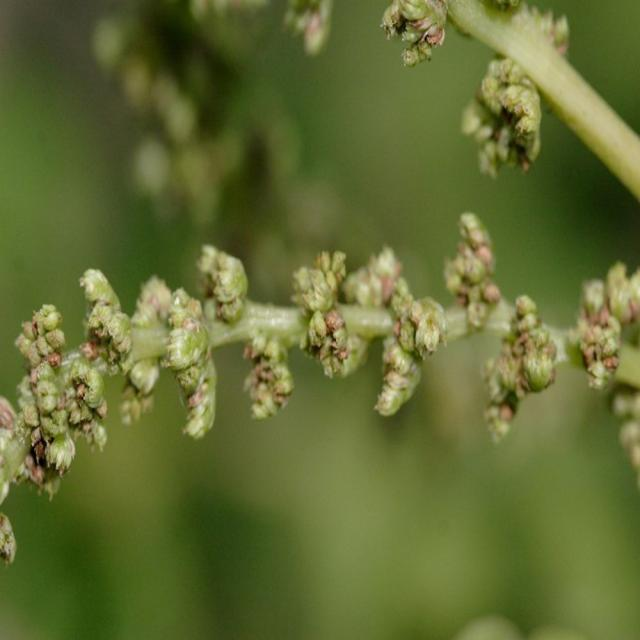Medicinal-Arive Dantu: (0, 216, 640, 555), (373, 0, 640, 231)
